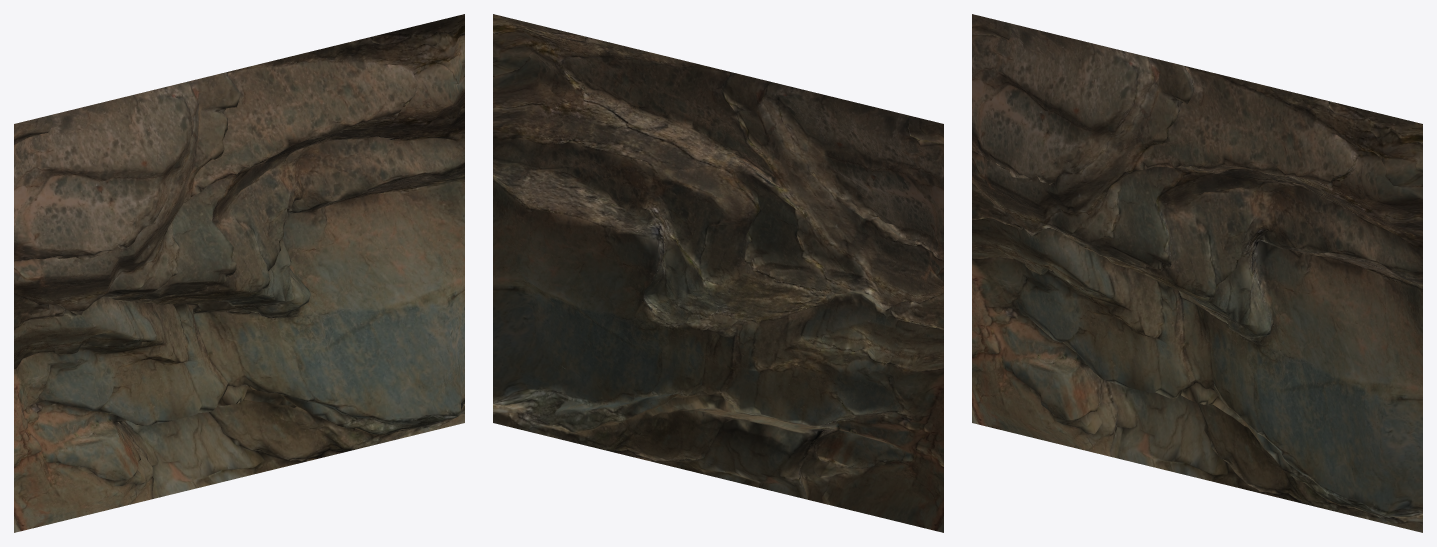
The model's file is rock-face-01.glb.
3 renders of one model, left to right at view 1: azimuth 30°, elevation 25°; view 2: azimuth 150°, elevation 25°; view 3: azimuth 330°, elevation 25°, orthographic.
Parts seen in each view (by area): view 1: rock_face_01; view 2: rock_face_01; view 3: rock_face_01.
Boxes of the visible parts, <box> form: rock_face_01: <box>14,14,464,532</box>; rock_face_01: <box>493,14,943,532</box>; rock_face_01: <box>972,14,1422,532</box>.
Bounding box in the file's own units: 3 × 2.6 × 0.4751.
Materials: 1 (1 with a texture image).
